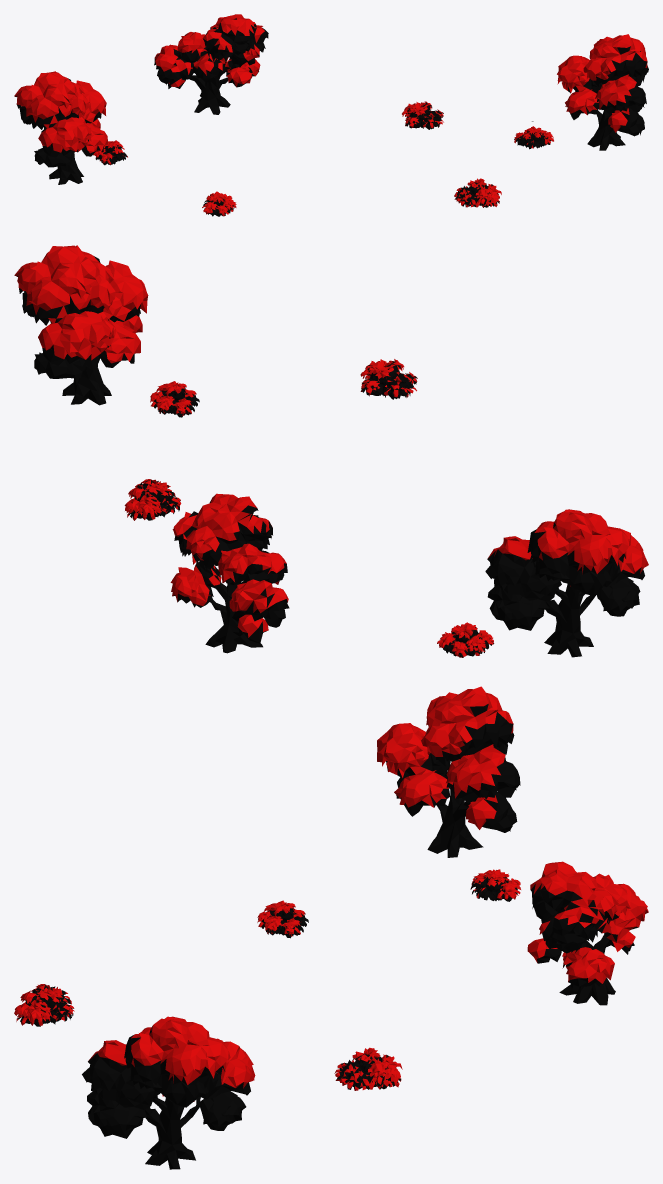
The model's file is plants.gltf.
The picture shows the model from 3 angles, top to bottom: view 1: azimuth 30°, elevation 25°; view 2: azimuth 150°, elevation 25°; view 3: azimuth 270°, elevation 25°; orthographic projection. The views are drawn at different scales.
Parts seen in each view (by area): view 1: LEAF_02, LEAF_00, LEAF_01, LEAF_06, TRUNK_01, LEAF_04, TRUNK_02, LEAF_07, LEAF_03, TRUNK_00, LEAF_05; view 2: LEAF_00, LEAF_02, LEAF_01, TRUNK_00, LEAF_06, LEAF_04, TRUNK_01, LEAF_05, LEAF_07, TRUNK_02; view 3: LEAF_02, LEAF_00, LEAF_01, TRUNK_02, LEAF_04, LEAF_06, TRUNK_00, LEAF_03, LEAF_05, TRUNK_01.
Part boxes in pixels (bbox=[...]): LEAF_02: bbox=[557, 34, 648, 136]; LEAF_00: bbox=[14, 71, 108, 170]; LEAF_01: bbox=[154, 14, 268, 88]; LEAF_06: bbox=[454, 178, 501, 207]; TRUNK_01: bbox=[189, 61, 230, 114]; LEAF_04: bbox=[402, 101, 443, 129]; TRUNK_02: bbox=[587, 91, 625, 150]; LEAF_07: bbox=[514, 121, 553, 149]; LEAF_03: bbox=[202, 191, 236, 216]; TRUNK_00: bbox=[49, 151, 83, 184]; LEAF_05: bbox=[93, 140, 127, 165]; LEAF_00: bbox=[485, 509, 648, 630]; LEAF_02: bbox=[14, 245, 148, 384]; LEAF_01: bbox=[170, 493, 289, 643]; TRUNK_00: bbox=[544, 584, 596, 657]; LEAF_06: bbox=[360, 359, 417, 399]; LEAF_04: bbox=[124, 479, 181, 520]; TRUNK_01: bbox=[205, 582, 262, 653]; LEAF_05: bbox=[437, 622, 494, 657]; LEAF_07: bbox=[150, 381, 199, 417]; TRUNK_02: bbox=[62, 356, 111, 405]; LEAF_02: bbox=[82, 1016, 255, 1138]; LEAF_00: bbox=[377, 686, 520, 832]; LEAF_01: bbox=[527, 861, 648, 986]; TRUNK_02: bbox=[145, 1096, 200, 1169]; LEAF_04: bbox=[334, 1047, 402, 1090]; LEAF_06: bbox=[14, 984, 74, 1026]; TRUNK_00: bbox=[427, 772, 483, 857]; LEAF_03: bbox=[257, 900, 308, 938]; LEAF_05: bbox=[470, 869, 520, 901]; TRUNK_01: bbox=[559, 934, 615, 1005].
Bounding box in the file's own units: 34.82 × 7.28 × 25.15.
